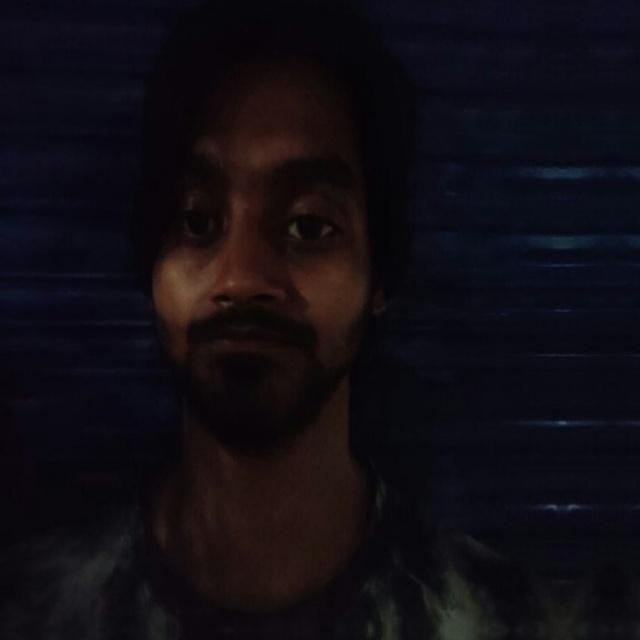Natural: (69, 60, 480, 492)
